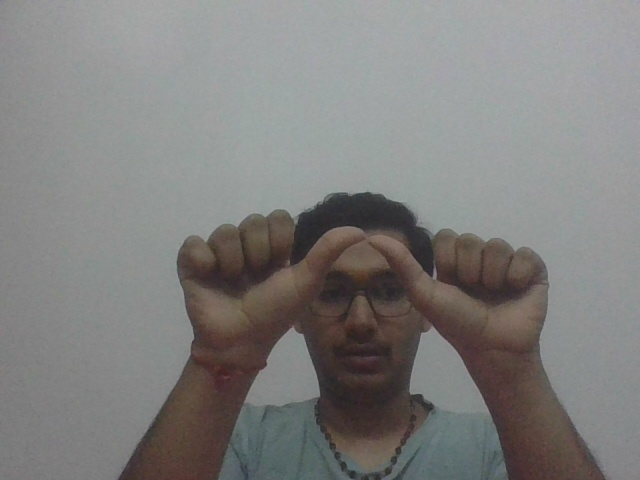A: (147, 212, 574, 357)
